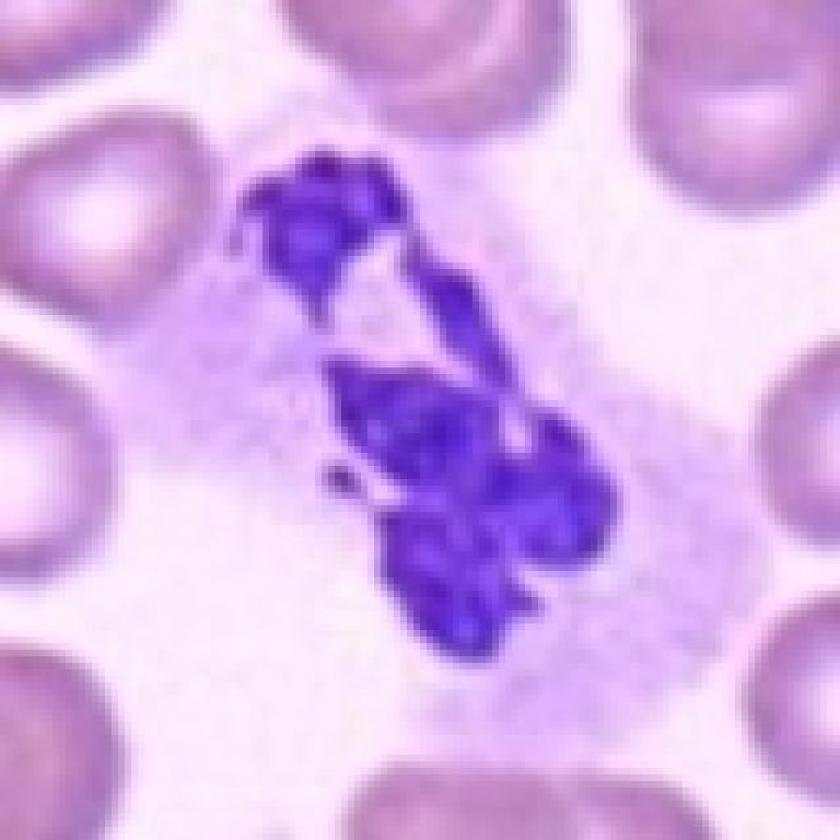neutrophil: (97, 101, 769, 773)
